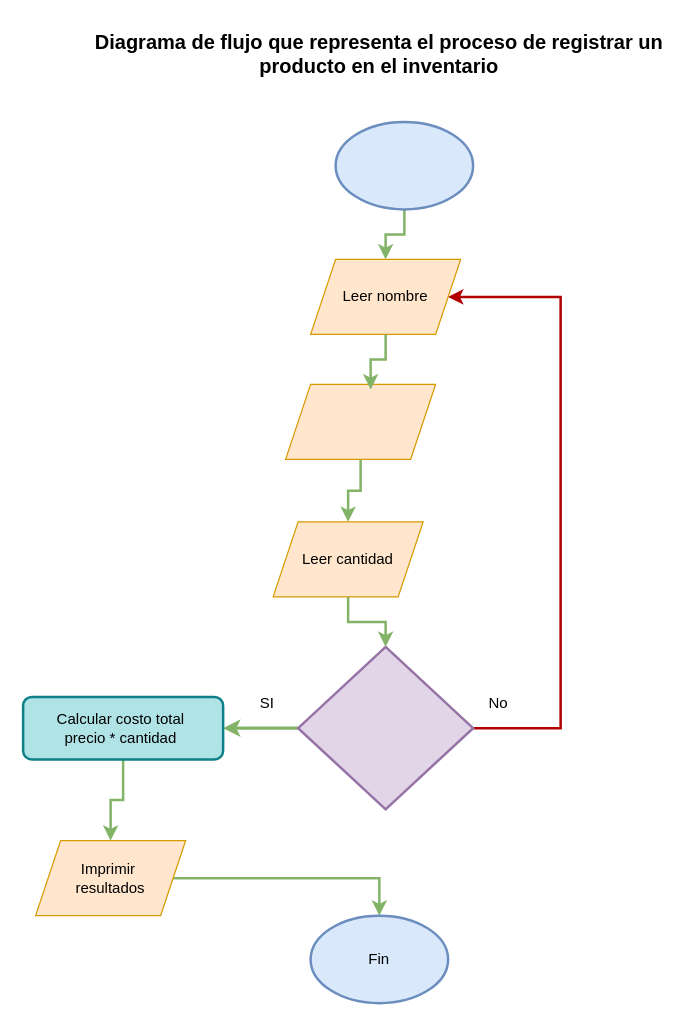
The diagram is 700 pixels wide and 1025 high, and some of its shapes have lost their labels. The shapes that lost their labels are listed below. From the top down, each one's box as (x1, y1, x2, y2) in pixels, then its label:
(334, 120, 474, 210): Inicio
(284, 383, 436, 459): Leer precio
(296, 645, 474, 810): ¿Los datos son correctos?
